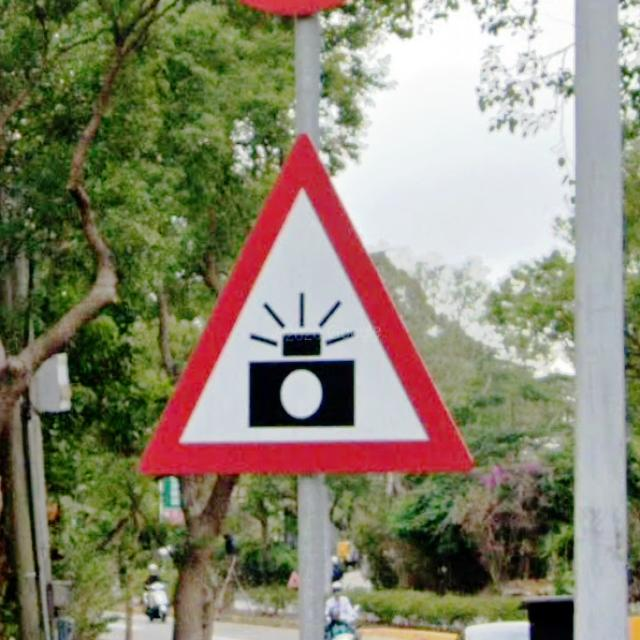speedcamera: (136, 129, 476, 480)
